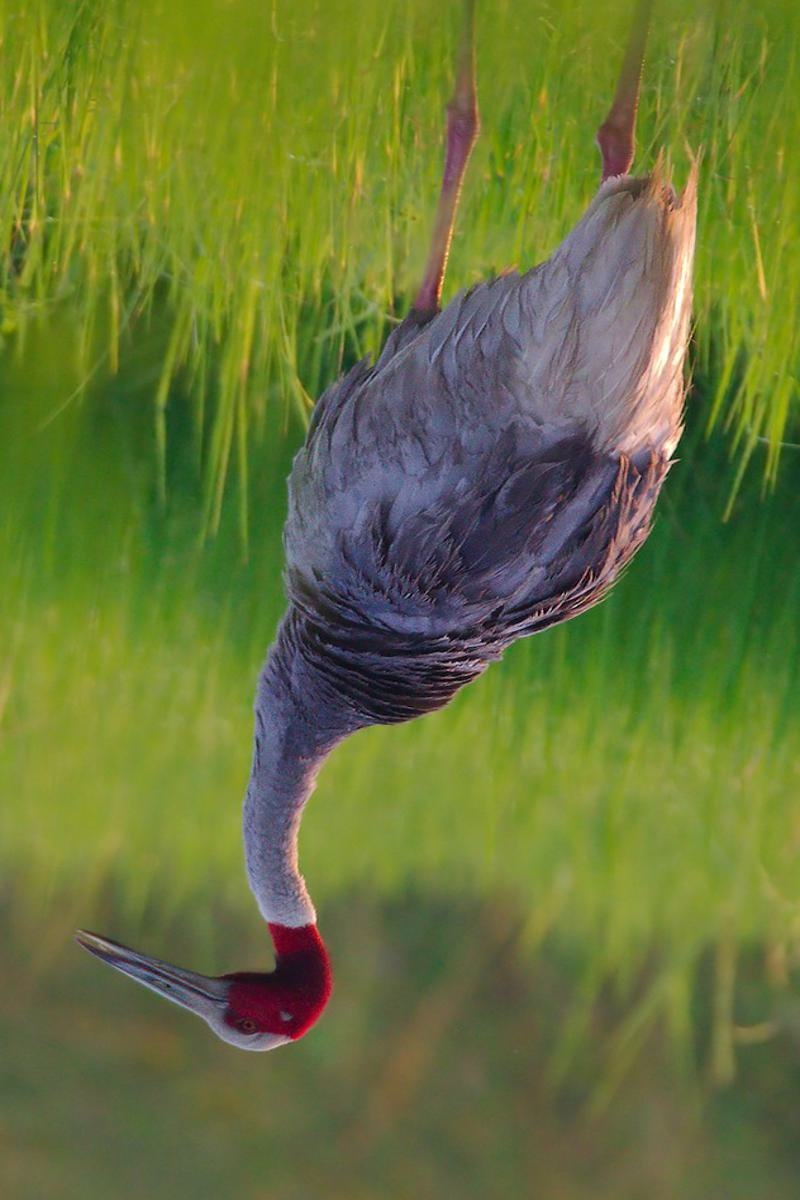crane: (77, 62, 716, 1059)
